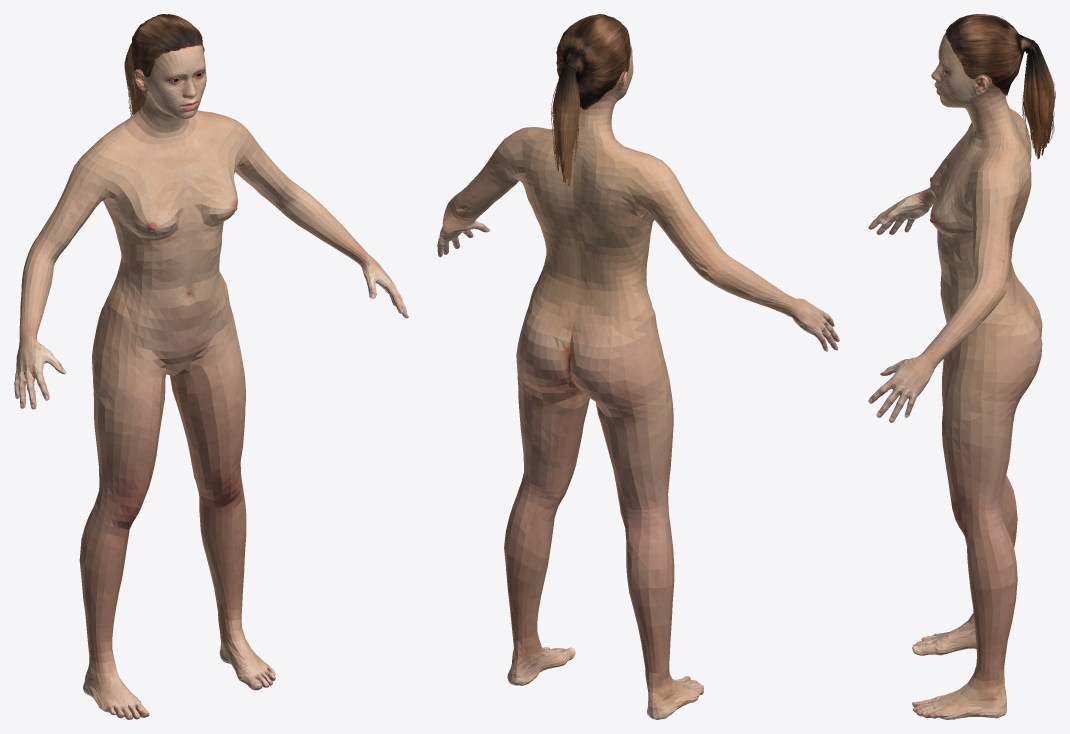
The model's file is mujer.obj.
3 views of the same model, side by side, from view 1: azimuth 30°, elevation 25°; view 2: azimuth 150°, elevation 25°; view 3: azimuth 270°, elevation 25° (orthographic). The views are drawn at different scales.
Visible parts, largest first — view 1: base.obj, ponytail01.obj; view 2: base.obj, ponytail01.obj; view 3: base.obj, ponytail01.obj.
Boxes of the visible parts, x1,y1,x2,y2 form: base.obj: (14,45,408,719); ponytail01.obj: (124,14,204,116); base.obj: (437,41,839,719); ponytail01.obj: (551,14,630,185); base.obj: (868,32,1042,719); ponytail01.obj: (945,14,1055,159).
Size of the model in its own units: 0.9624 by 1.58 by 0.4029.
Materials: 3 (3 with a texture image).
